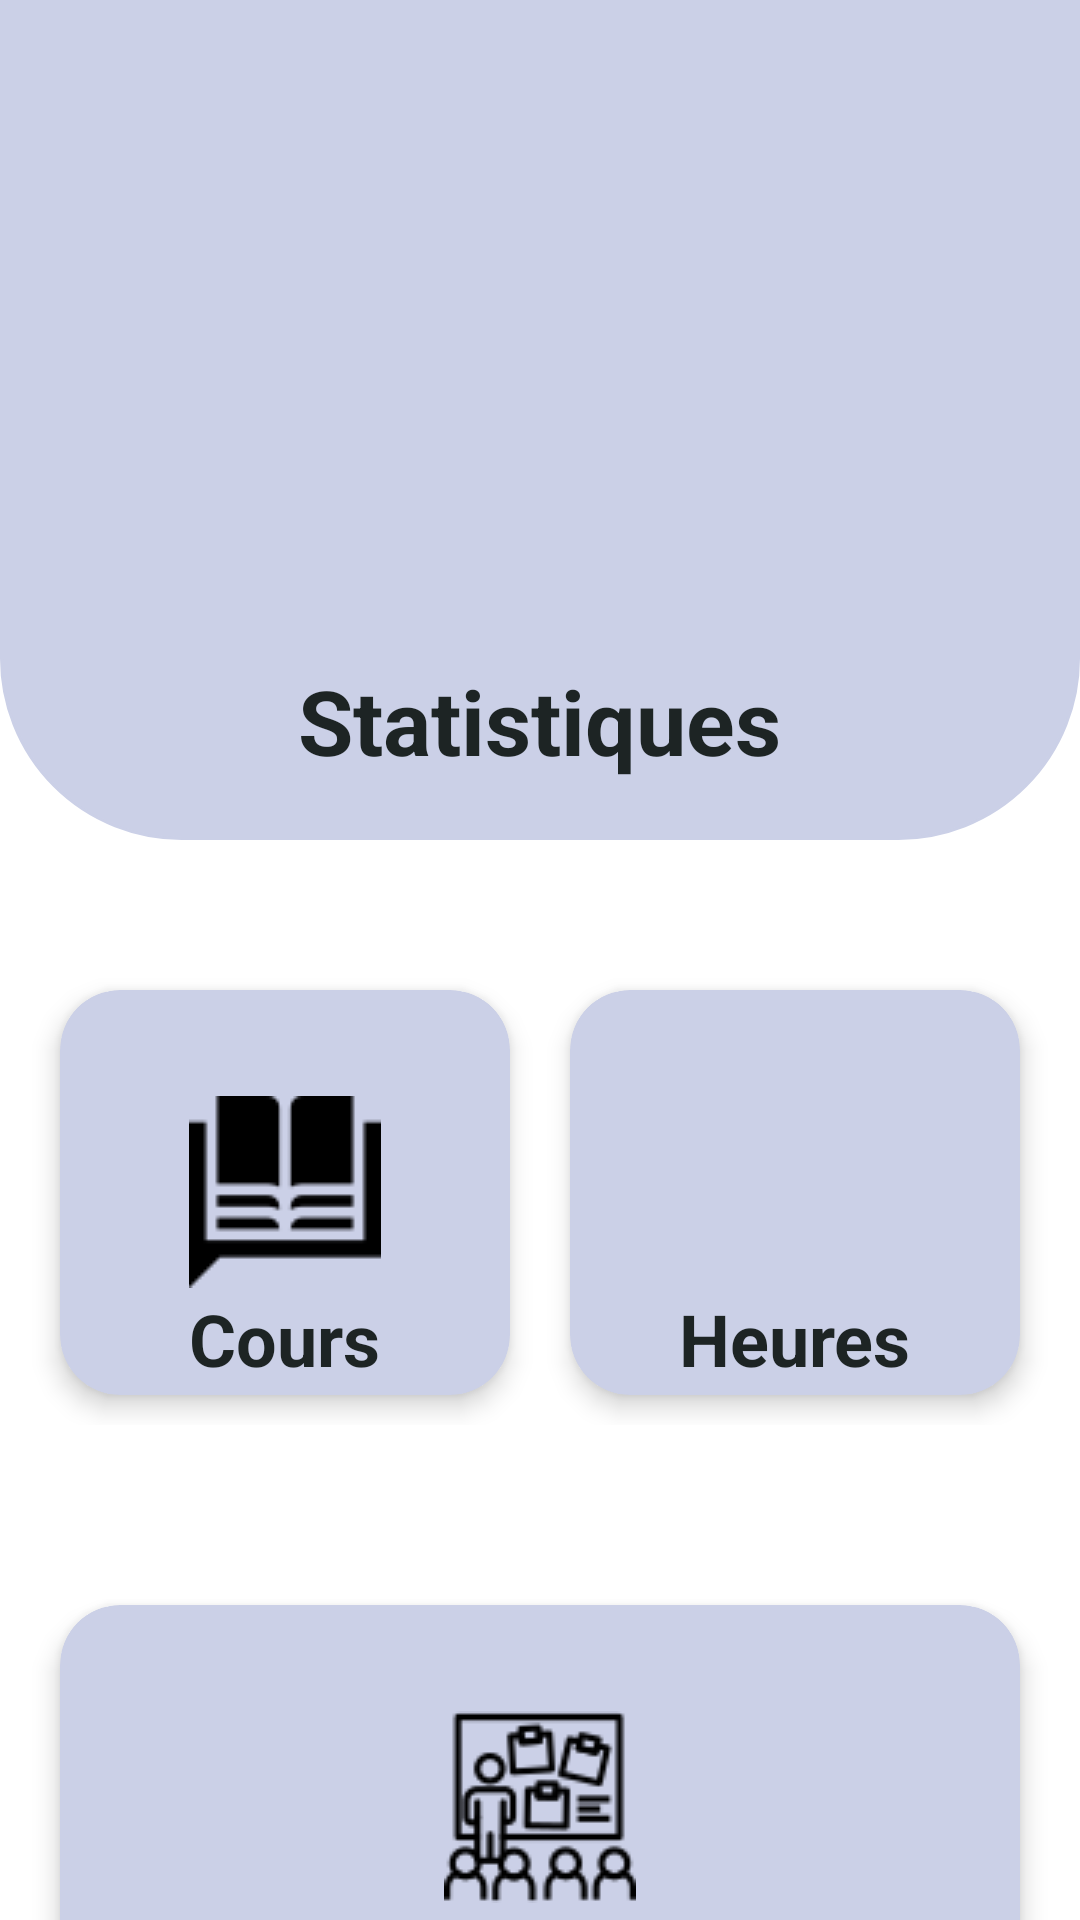

Where icons sit on this 1080px x 1920px app screen, as (x1, y1, x2, y2):
workshop: (444, 1713, 636, 1901)
